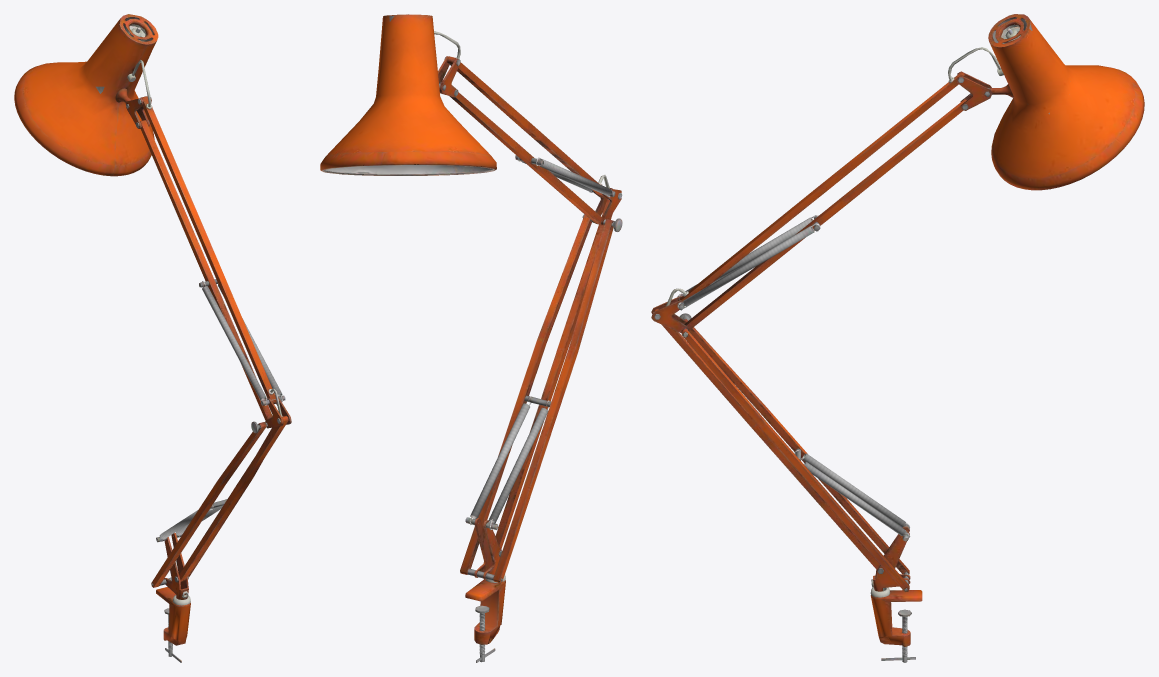
File: desk_lamp_arm_01.glb
3 renders of one model, left to right at view 1: azimuth 30°, elevation 25°; view 2: azimuth 150°, elevation 25°; view 3: azimuth 270°, elevation 25°, orthographic. The views are drawn at different scales.
Parts seen in each view (by area): view 1: desk_lamp_arm_01; view 2: desk_lamp_arm_01; view 3: desk_lamp_arm_01.
Boxes of the visible parts, box(x1,y1,x2,y2) form: desk_lamp_arm_01: box(14, 14, 291, 662); desk_lamp_arm_01: box(320, 14, 622, 662); desk_lamp_arm_01: box(651, 14, 1144, 662).
Bounding box in the file's own units: 0.2017 × 0.8926 × 0.6139.
Materials: 2 (2 with a texture image).
